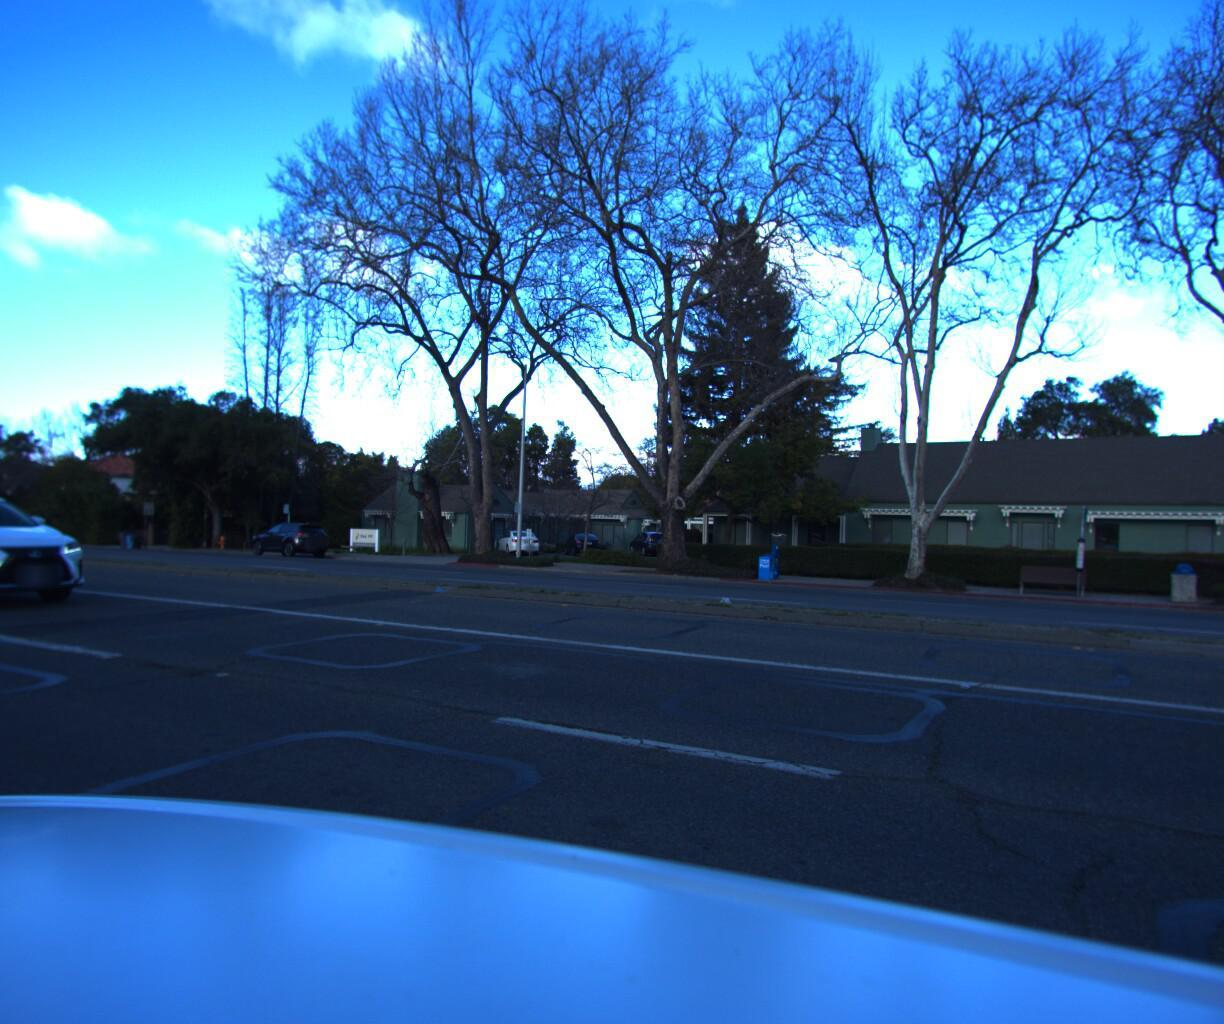car: (0, 471, 110, 613), (239, 516, 331, 556)
